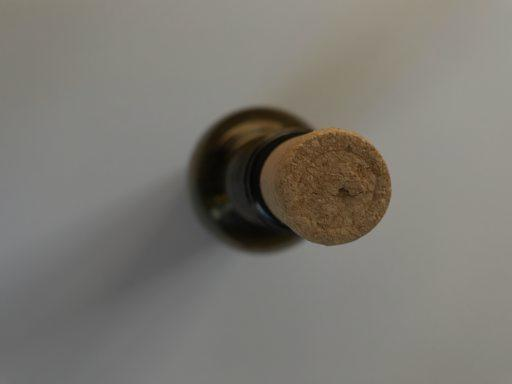glass: (185, 107, 392, 255)
